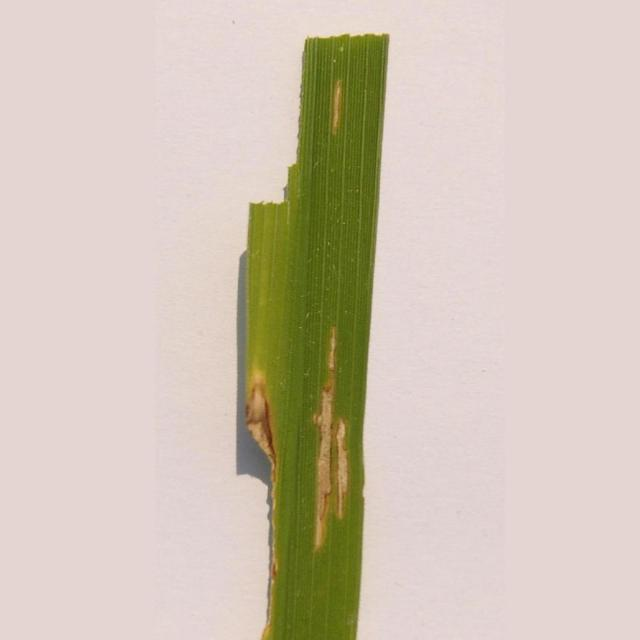leaf blight: (243, 321, 353, 637), (307, 74, 360, 130)
